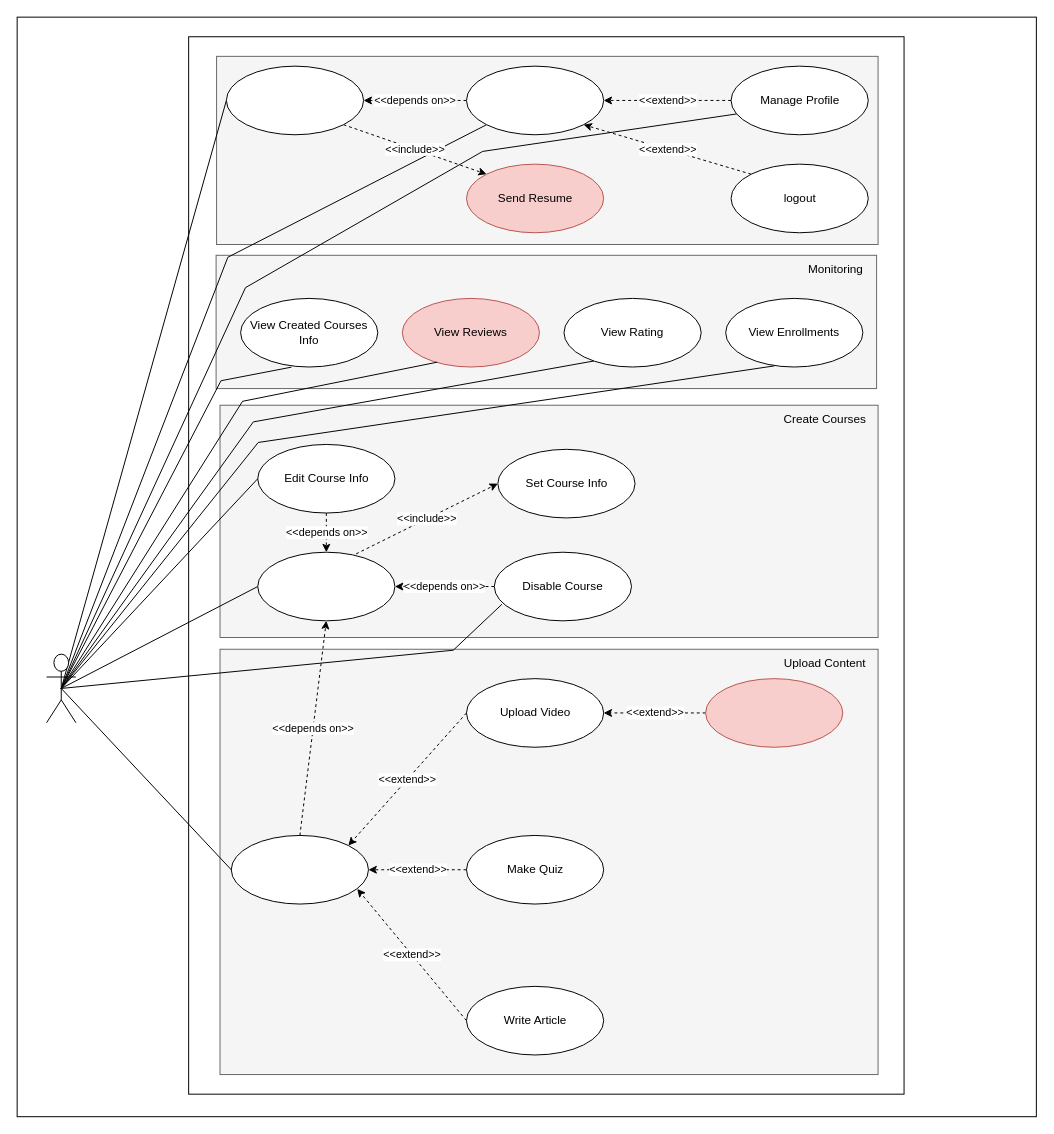
Image size: 1054x1134. Some labels were removed from this diagram. Each missing label, with the centre of its shape:
"Create Content" belongs at point (299, 869).
"Create Course" belongs at point (326, 586).
"Instructor" belongs at point (61, 688).
"login" belongs at point (535, 100).
"Register with Platform" belongs at point (294, 100).
"Upload captions" belongs at point (774, 712).
